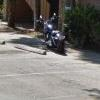Motorcycle: (32, 13, 76, 57)
